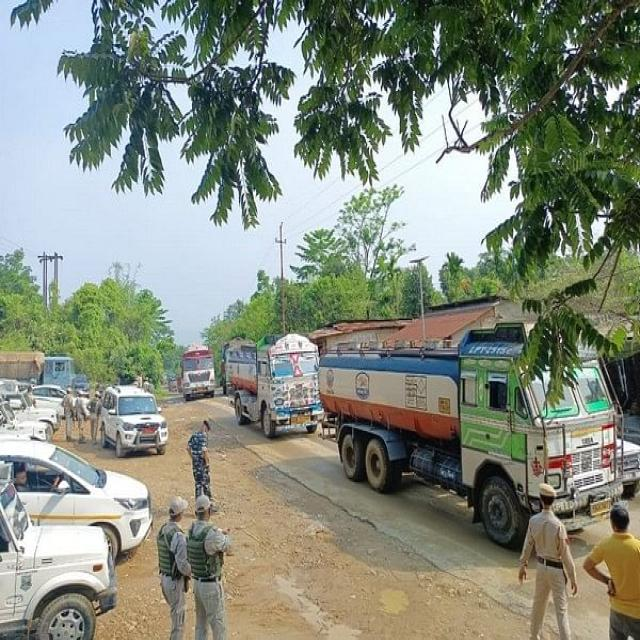car: (0, 442, 152, 556), (101, 387, 169, 456)
truck: (320, 323, 620, 547), (222, 335, 324, 438)
